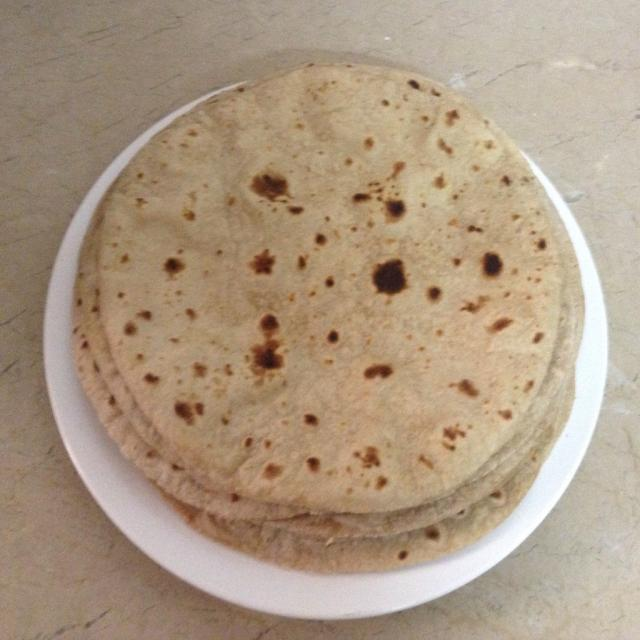chapati: (73, 34, 591, 584)
